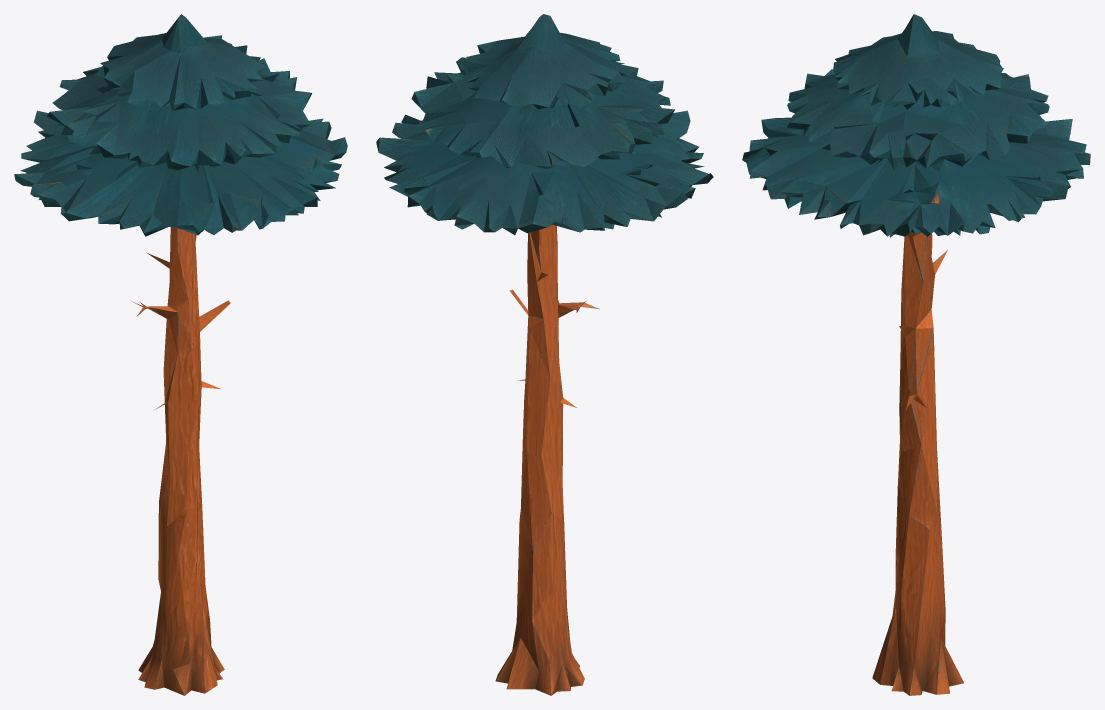
File: tree_pine.glb
3 renders of one model, left to right at view 1: azimuth 30°, elevation 25°; view 2: azimuth 150°, elevation 25°; view 3: azimuth 270°, elevation 25°, orthographic.
Parts seen in each view (by area): view 1: Mesh_0; view 2: Mesh_0; view 3: Mesh_0.
Boxes of the visible parts, <box> form: Mesh_0: <box>14,14,347,695</box>; Mesh_0: <box>376,14,713,695</box>; Mesh_0: <box>742,14,1090,695</box>.
Size of the model in its own units: 0.8822 by 1.9 by 0.9053.
1 material, 1 textured.
